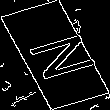N_E: (13, 27, 97, 83)
